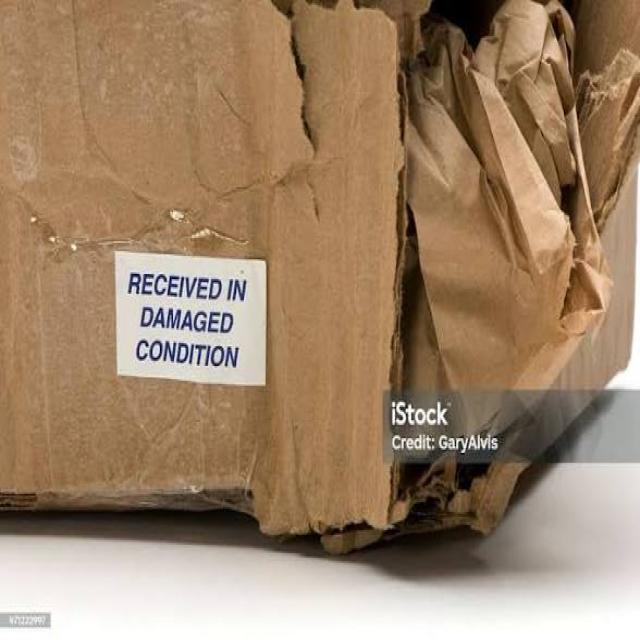carton_box: (1, 0, 640, 569)
package_damage: (251, 0, 640, 568)
